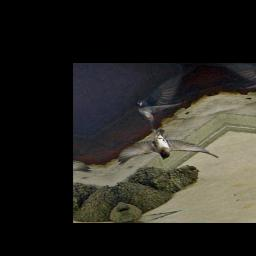Swallow: (105, 115, 221, 182)
